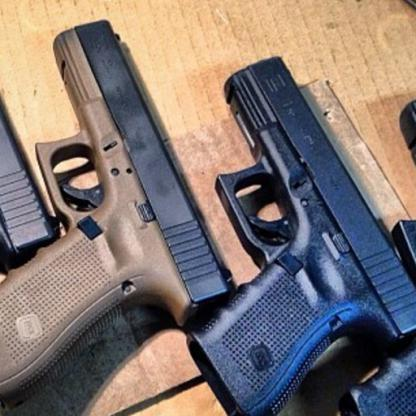gun: (0, 17, 238, 405), (183, 54, 415, 415), (330, 80, 415, 415), (0, 0, 62, 339)
